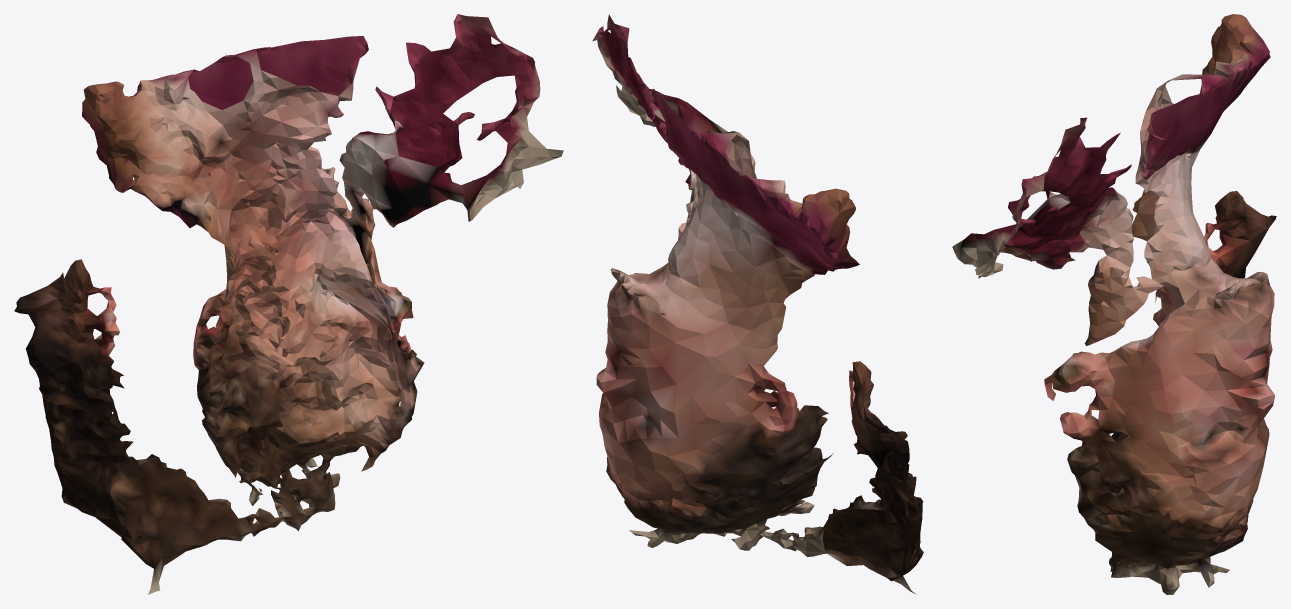
File: texturedMesh.dae
The picture shows the model from 3 angles, left to right: view 1: azimuth 30°, elevation 25°; view 2: azimuth 150°, elevation 25°; view 3: azimuth 270°, elevation 25°; orthographic projection. The views are drawn at different scales.
Parts seen in each view (by area): view 1: node; view 2: node; view 3: node.
Boxes of the visible parts, <box> form: node: <box>14,14,563,594</box>; node: <box>592,14,923,594</box>; node: <box>952,14,1276,594</box>.
Bounding box in the file's own units: 0.8183 × 0.9492 × 0.5039.
